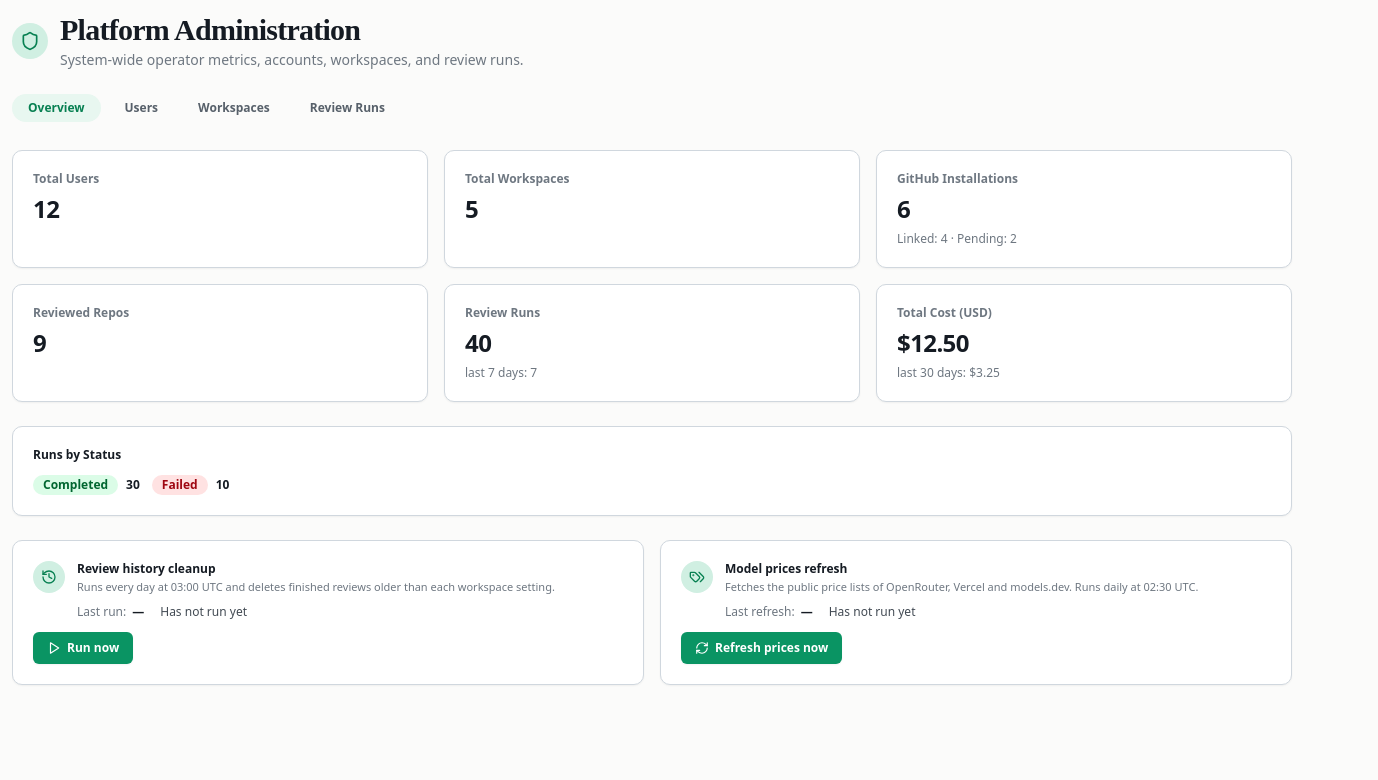
Scenario: AdminPage › users tab lists providers as badges and searches by name or email on the server
Click the tab "Users": coordinates (141, 108) [108,94,174,122]
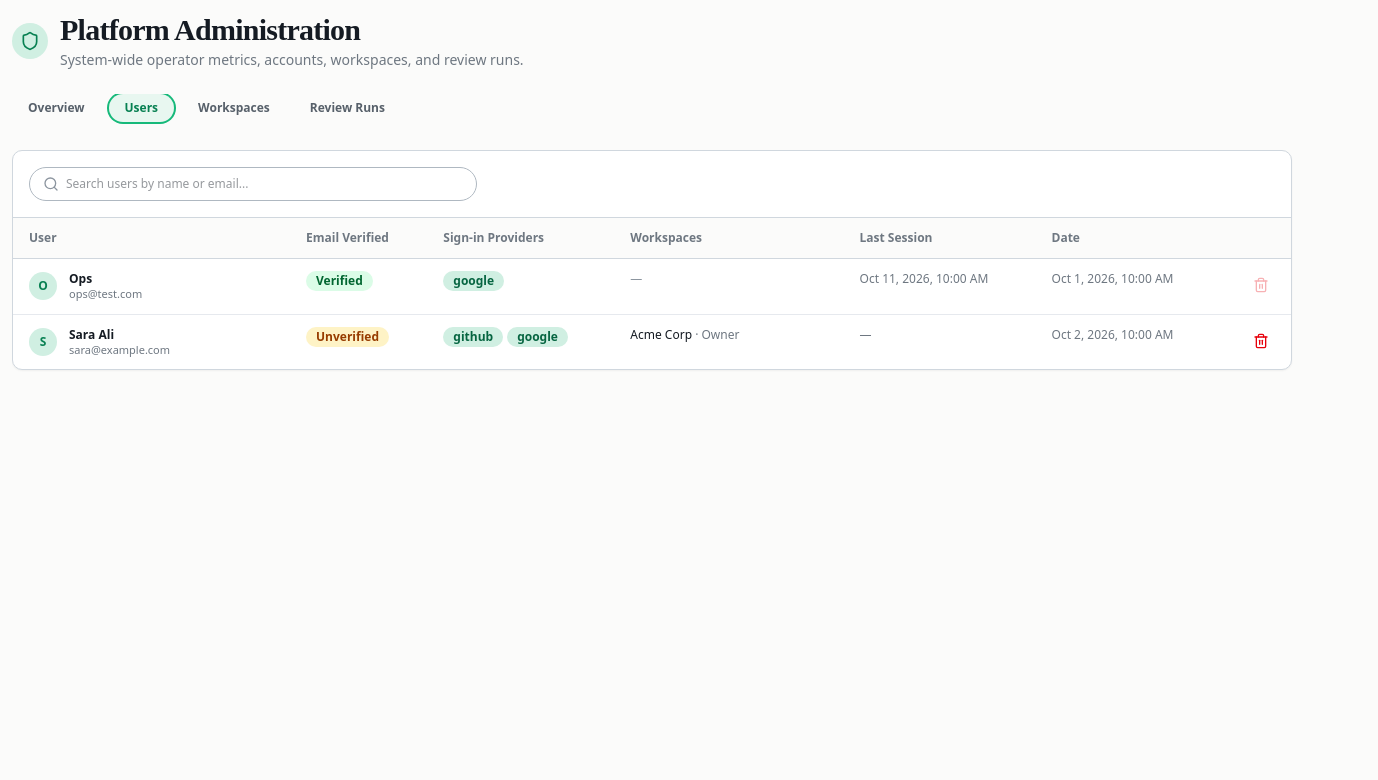
Expected: the text "github" is shown, [443,327,503,347]
Expected: the text "Sara Ali" is shown, [69,326,114,343]
Expected: the text "Unverified" is shown, [306,327,389,347]
Click the search field with placeholder "Search users by name or email...": coordinates (253, 184) [29,167,477,201]
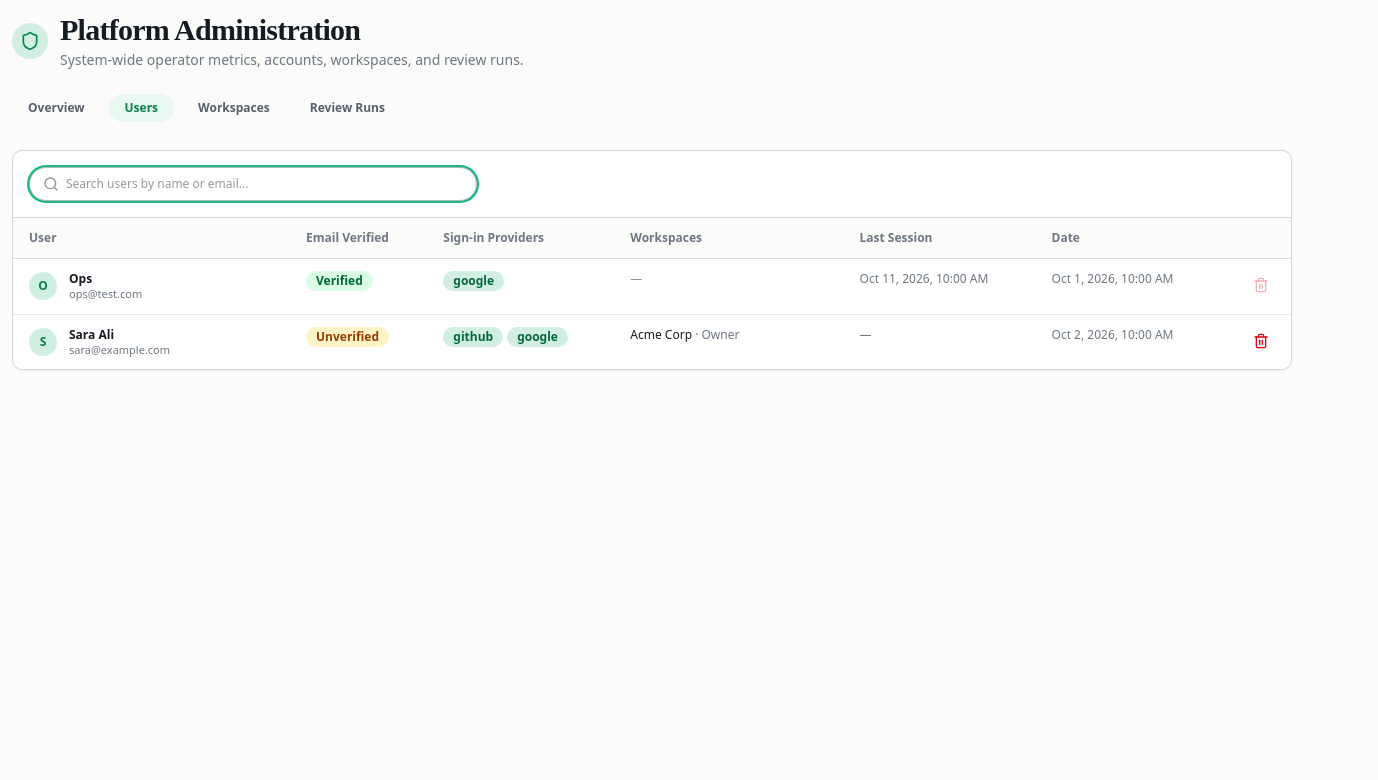
Type keys "SARA@"
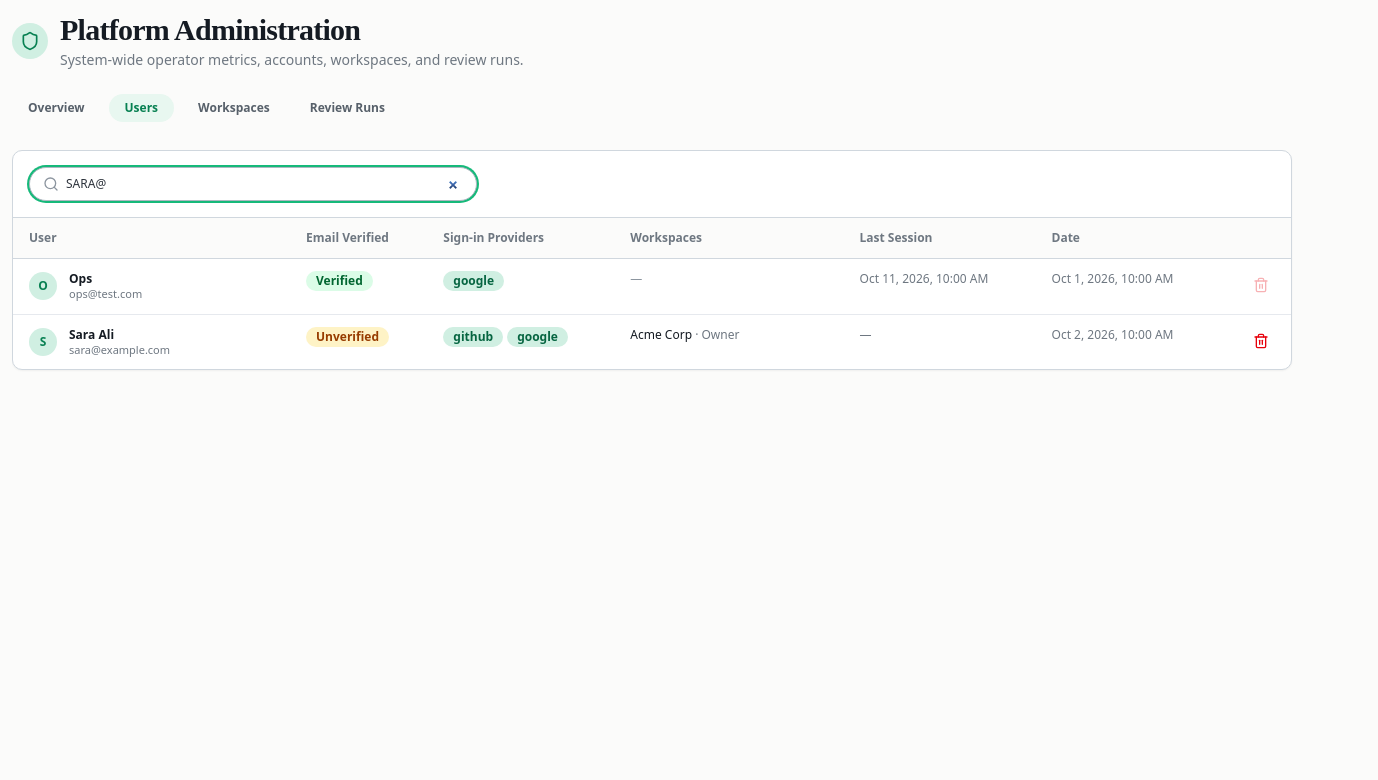
Clear the search field with placeholder "Search users by name or email...": coordinates (253, 184) [29,167,477,201]
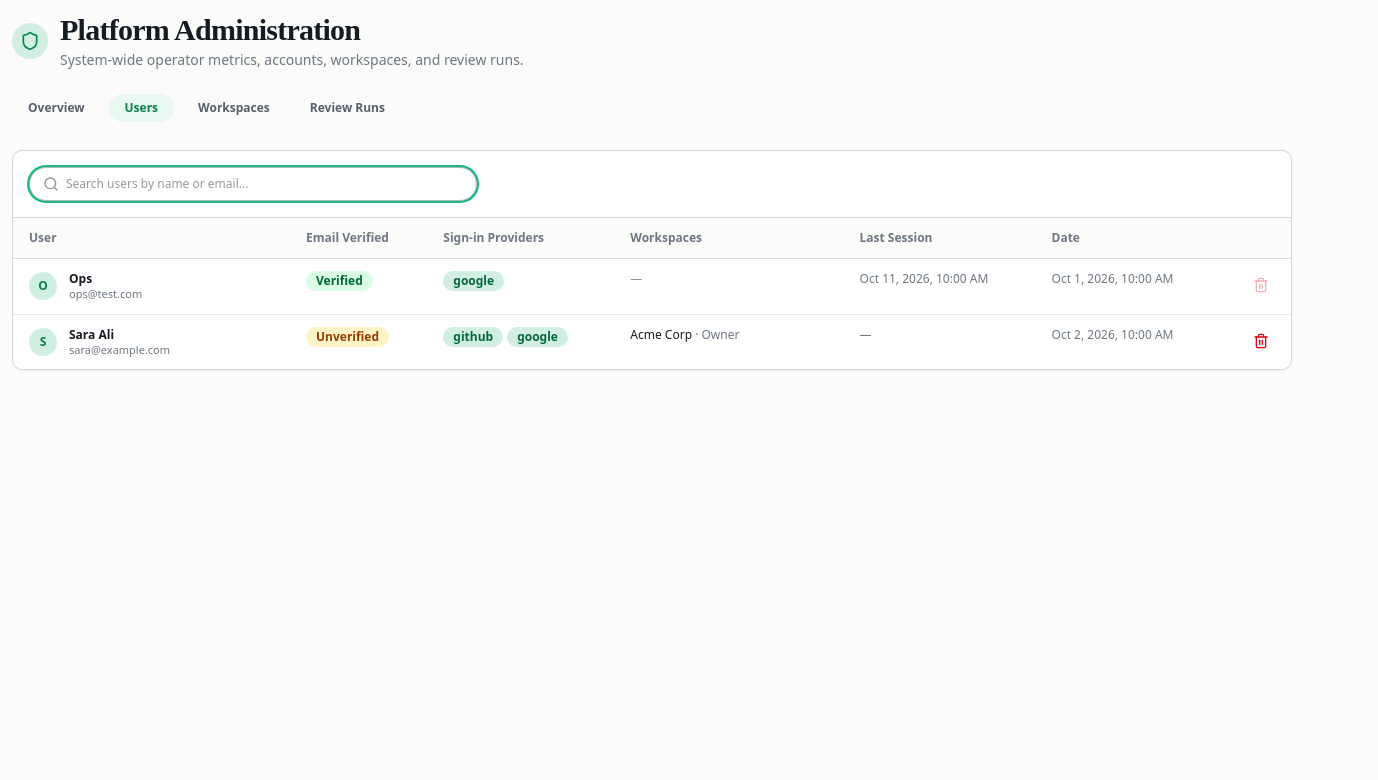
Type keys "nobody"
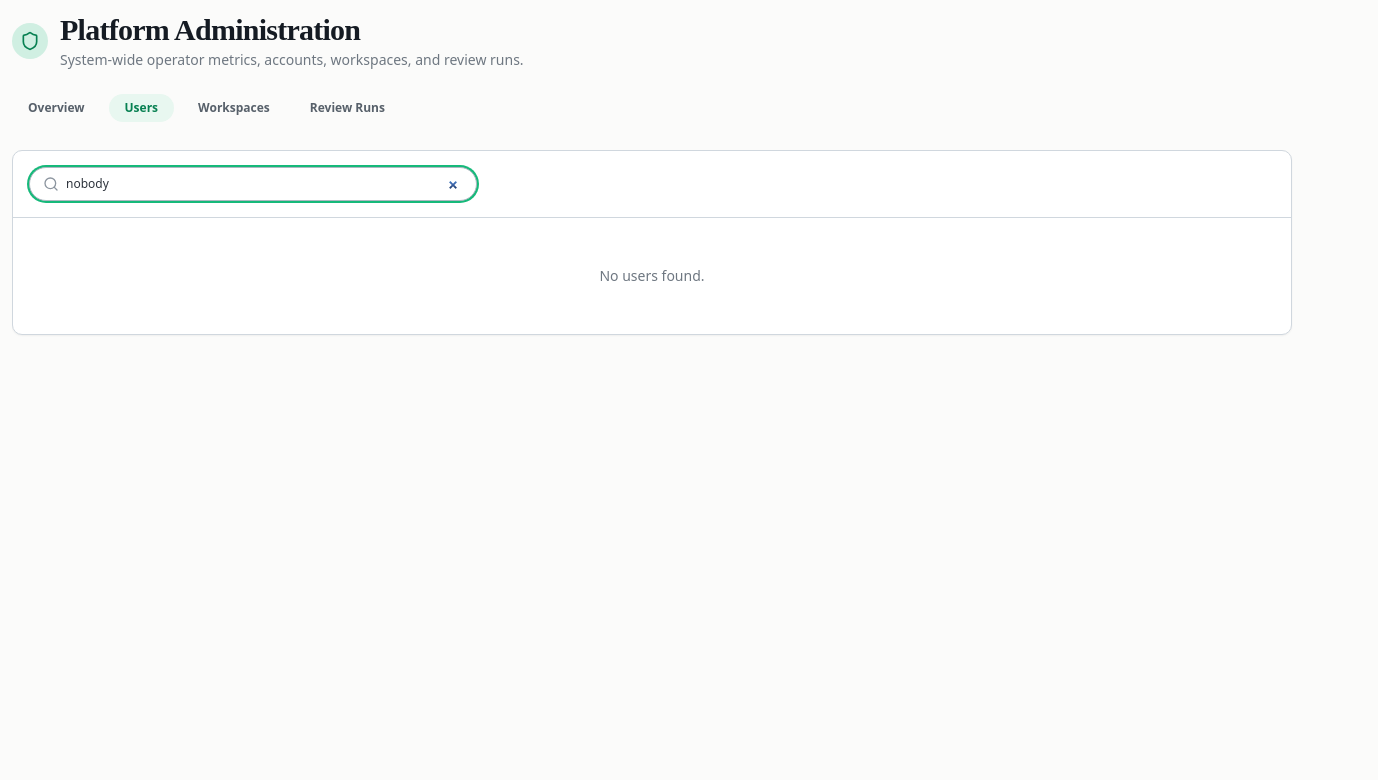
Expected: the text "No users found." is shown, [600,266,705,285]
